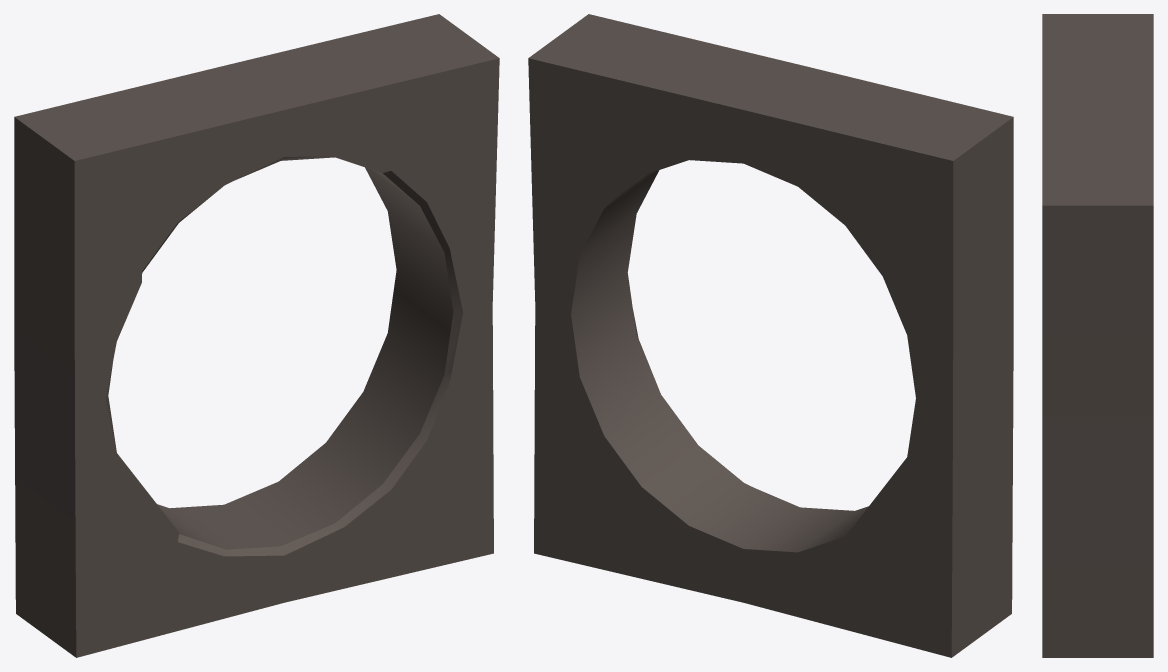
Rendered from MCastle_WindowWall_03_Int_A.FBX.
3 renders of one model, left to right at view 1: azimuth 30°, elevation 25°; view 2: azimuth 150°, elevation 25°; view 3: azimuth 270°, elevation 25°, orthographic. The views are drawn at different scales.
Parts seen in each view (by area): view 1: MCastle_WindowWall_03_Int_A_LOD0; view 2: MCastle_WindowWall_03_Int_A_LOD0; view 3: MCastle_WindowWall_03_Int_A_LOD0.
Boxes of the visible parts, x1=… form: MCastle_WindowWall_03_Int_A_LOD0: x1=14, y1=14, x2=499, y2=657; MCastle_WindowWall_03_Int_A_LOD0: x1=528, y1=14, x2=1013, y2=657; MCastle_WindowWall_03_Int_A_LOD0: x1=1042, y1=14, x2=1153, y2=657.
Size of what is drawn, in the model's own units: 4.06 by 4.54 by 1.
